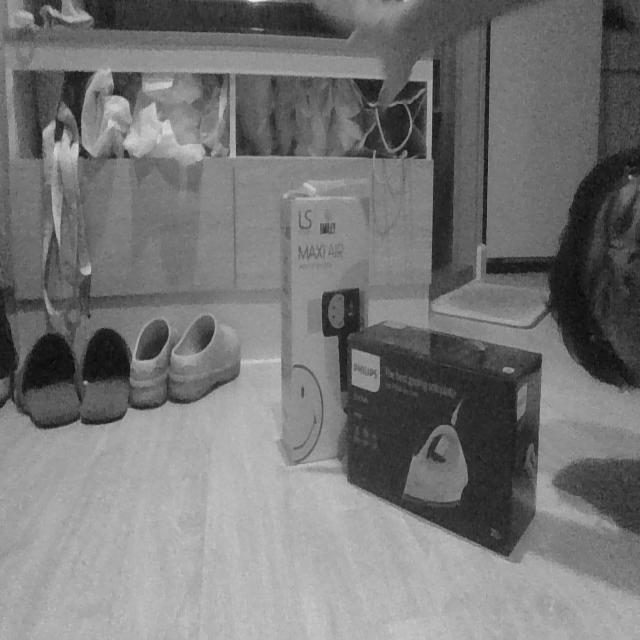Dryer: (277, 178, 373, 467)
IRON: (343, 317, 544, 561)
